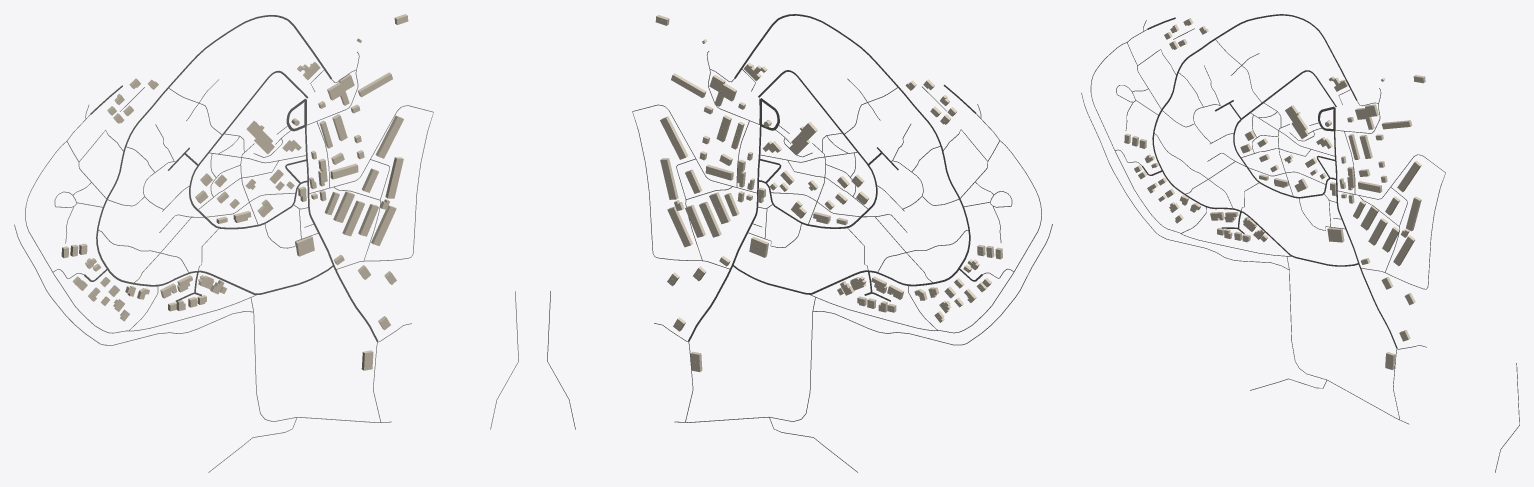
Rendered from historic-palestine-07_22_3487_3164.glb.
The picture shows the model from 3 angles, left to right: view 1: azimuth 30°, elevation 25°; view 2: azimuth 150°, elevation 25°; view 3: azimuth 330°, elevation 25°; orthographic projection. The views are drawn at different scales.
Visible parts, largest first — view 1: Road .008, Road .010, Road .009, Road .023; view 2: Road .008, Road .010, Road .009, Road .023; view 3: Road .008, Road .010.
Part boxes in pixels (left/top/right/bottom): Road .008: left=96, top=15, right=333, bottom=294; Road .010: left=189, top=70, right=308, bottom=229; Road .009: left=305, top=125, right=377, bottom=341; Road .023: left=25, top=114, right=258, bottom=333; Road .008: left=732, top=14, right=970, bottom=294; Road .010: left=758, top=70, right=877, bottom=228; Road .009: left=688, top=125, right=761, bottom=341; Road .023: left=809, top=113, right=1041, bottom=333; Road .008: left=1152, top=14, right=1358, bottom=266; Road .010: left=1233, top=70, right=1336, bottom=198.
Size of the model in its own units: 997 by 886 by 11.2.
